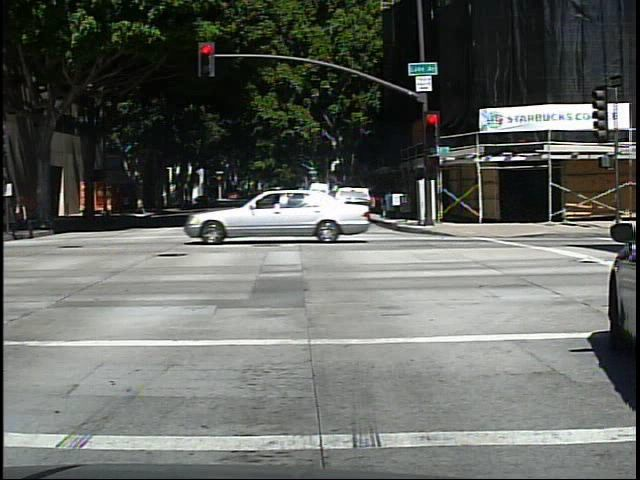person: (11, 189, 40, 242)
